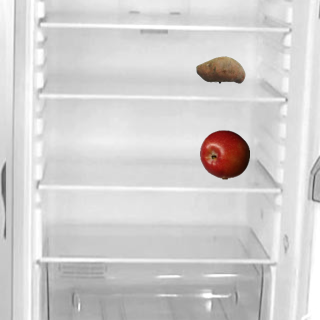Apple Braeburn: (199, 129, 249, 179)
Potato Sweet: (195, 44, 245, 94)
